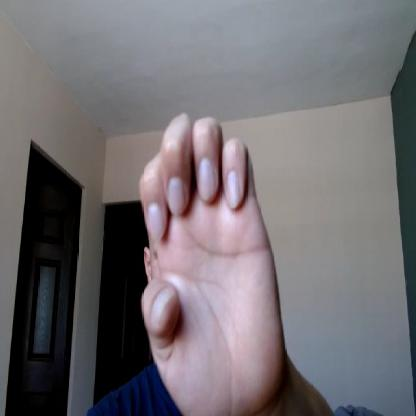E: (138, 115, 282, 415)
